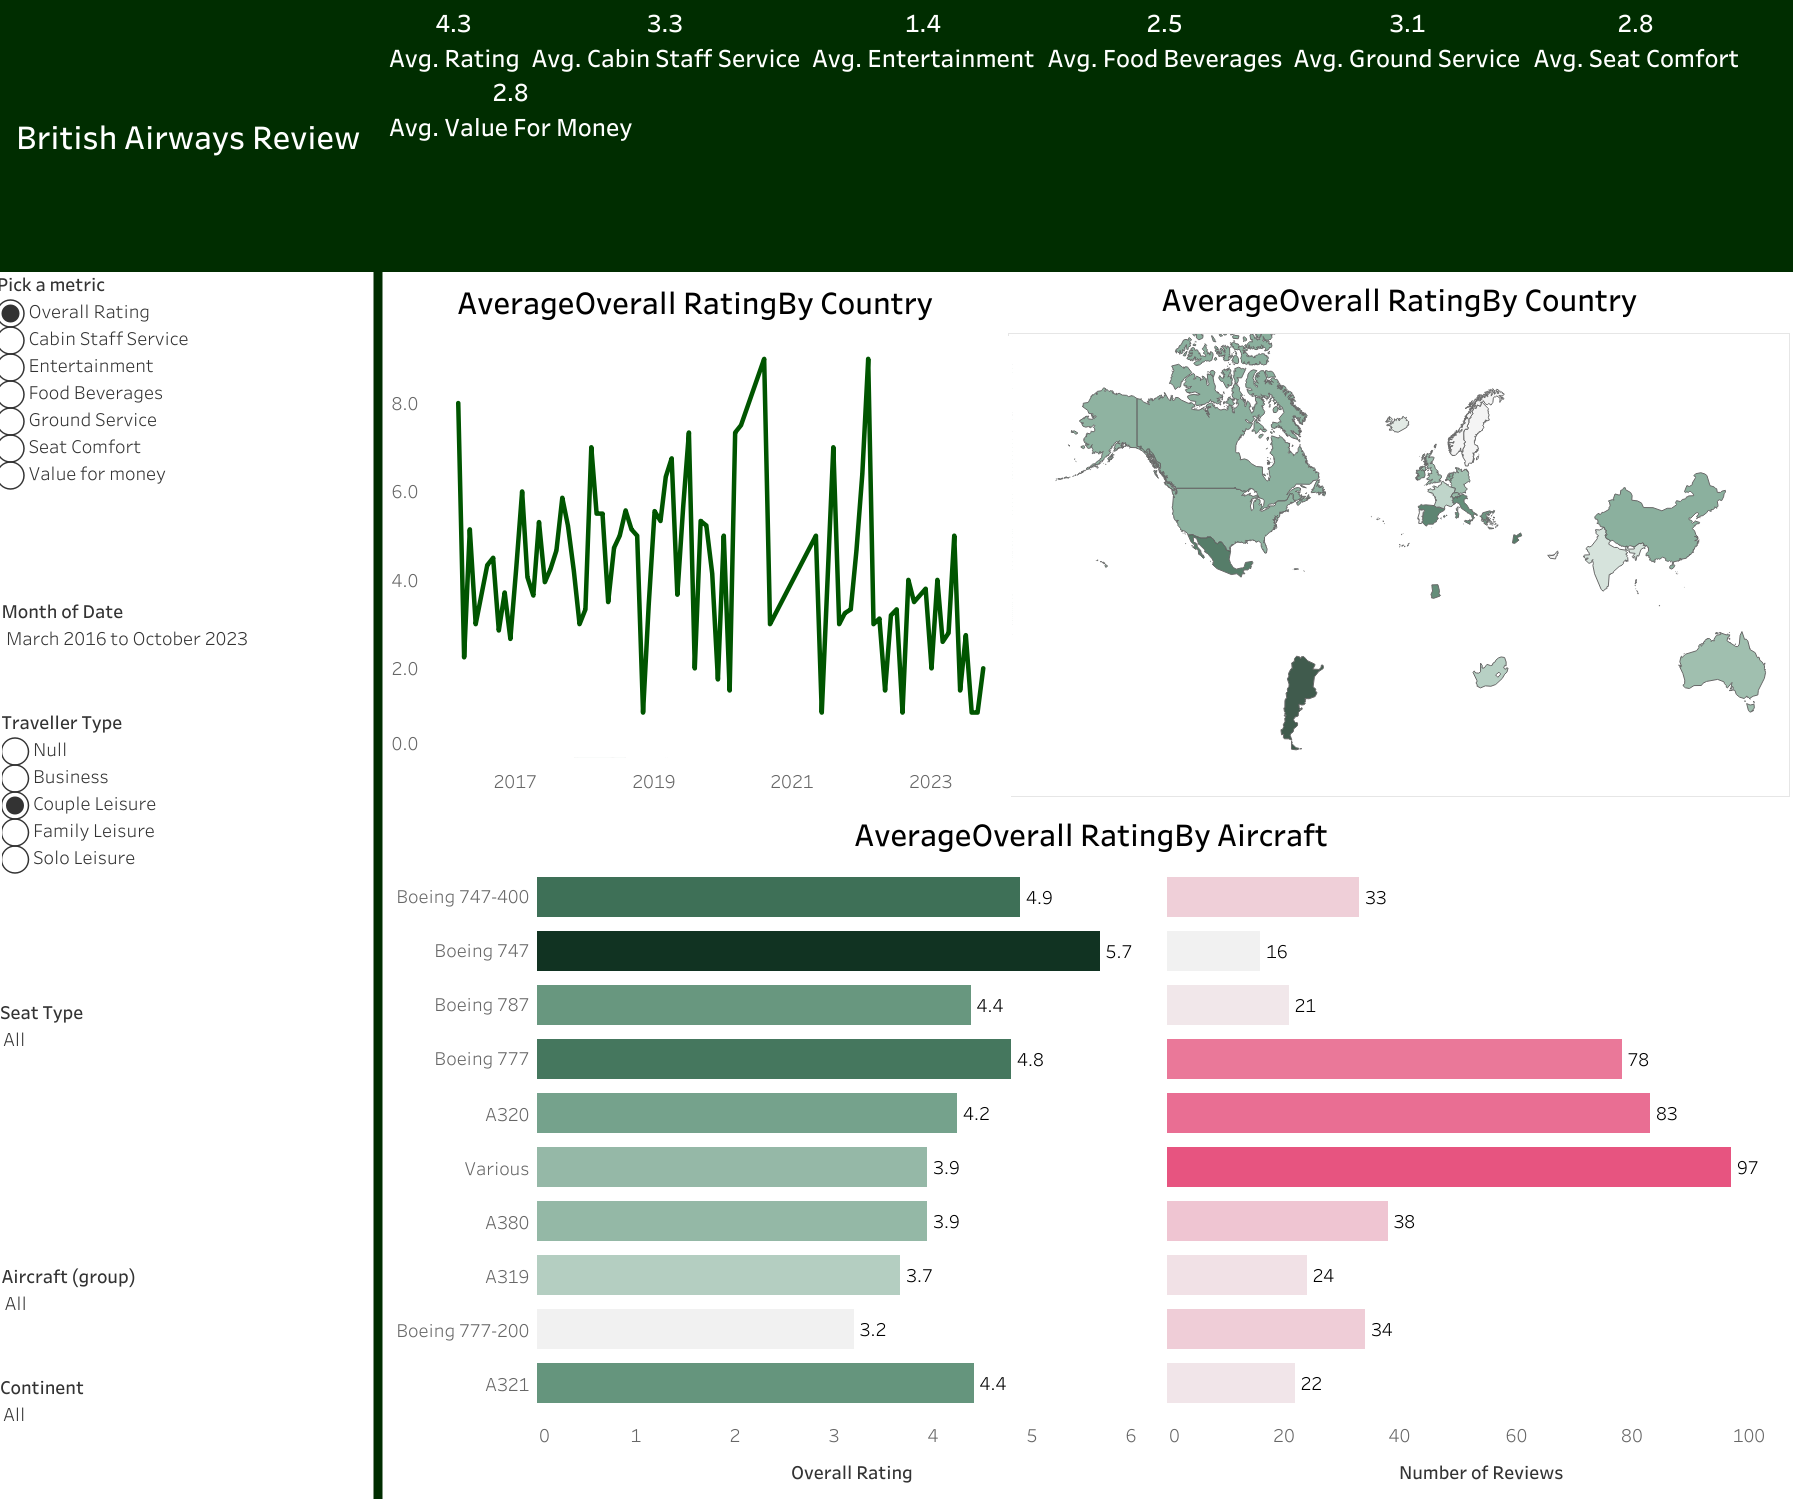

The dashboard page shown, as its layout file describes it:
{"tool":"tableau","page":{"name":"Dashboard 1","canvas":[1200,1000],"ordinal":0},"visuals":[{"type":"text","box":[0,0,251,181.2]},{"type":"worksheet","title":"map","mark":"Automatic","box":[672,179,522,353]},{"type":"blank","box":[249,180,6,820]},{"type":"worksheet","title":"month","mark":"Automatic","rows":["Calculation_756604741965852672"],"cols":["date"],"box":[253,181,421,353]},{"type":"filter","title":"map","param":"[federated.1phe2qq03gr4o31gaz0v80fwyf4j].[tmn:date:qk]","box":[1,397,249,87]},{"type":"filter","title":"map","param":"[federated.1phe2qq03gr4o31gaz0v80fwyf4j].[none:traveller_type:nk]","box":[1,471,248,239]},{"type":"worksheet","title":"aircraft","mark":"Automatic","cols":["Calculation_756604741965852672","ba_reviews.csv_D760A675EF904F5CA4D3B7763CB4FC74"],"box":[258,536,939,461]},{"type":"filter","title":"map","param":"[federated.1phe2qq03gr4o31gaz0v80fwyf4j].[none:seat_type:nk]","box":[0,664,249,208]},{"type":"filter","title":"map","param":"[federated.1phe2qq03gr4o31gaz0v80fwyf4j].[Aircraft (group)]","box":[1,840,249,77]},{"type":"filter","title":"map","param":"[federated.1phe2qq03gr4o31gaz0v80fwyf4j].[none:Continent:nk]","box":[0,914,250,78]}]}

Visuals, with their boxes in screenshot pixels (x1, y1, x2, y2), scaled from the page's 1200x1000 canvas onto the 1799x1499 screenshot:
text: l=0, t=0, r=376, b=272
"map" worksheet: l=1007, t=268, r=1790, b=797
blank: l=373, t=270, r=382, b=1498
"month" worksheet: l=379, t=271, r=1010, b=800
"map" filter: l=1, t=595, r=375, b=726
"map" filter: l=1, t=706, r=373, b=1064
"aircraft" worksheet: l=387, t=803, r=1795, b=1495
"map" filter: l=0, t=995, r=373, b=1307
"map" filter: l=1, t=1259, r=375, b=1375
"map" filter: l=0, t=1370, r=375, b=1487
